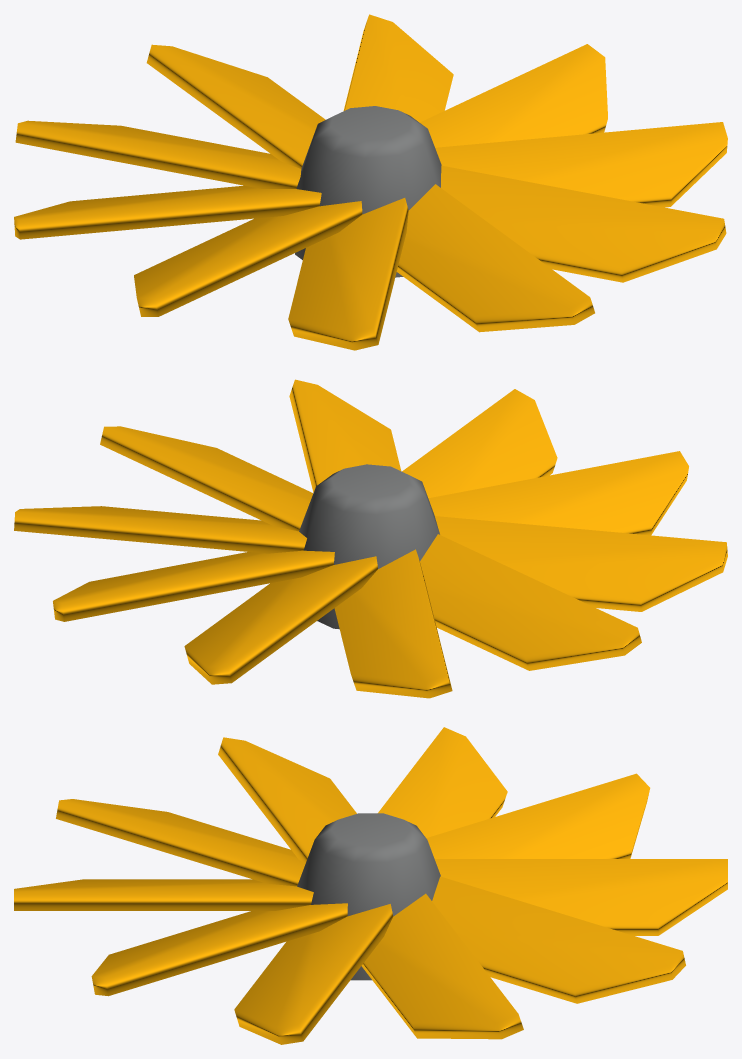
The model's file is Cargo_drone_004_propeller_002.fbx.
3 views of the same model, one above another, from view 1: azimuth 30°, elevation 25°; view 2: azimuth 150°, elevation 25°; view 3: azimuth 270°, elevation 25° (orthographic). The views are drawn at different scales.
Parts seen in each view (by area): view 1: Cargo_drone_004_propeller_002; view 2: Cargo_drone_004_propeller_002; view 3: Cargo_drone_004_propeller_002.
Part boxes in pixels (x1,y1,x2,y2): Cargo_drone_004_propeller_002: [14, 14, 727, 350]; Cargo_drone_004_propeller_002: [14, 379, 727, 698]; Cargo_drone_004_propeller_002: [14, 727, 727, 1044].
Bounding box in the file's own units: 106 × 107 × 19.89.
